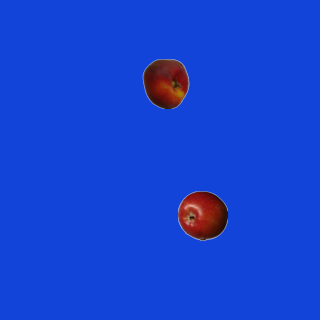Apple Braeburn: (177, 190, 227, 240)
Nectarine Flat: (140, 58, 190, 108)
